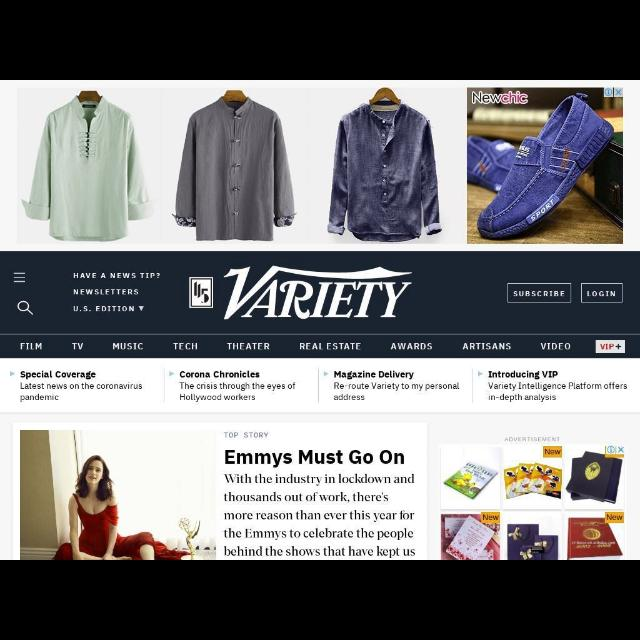button: (607, 445, 617, 455), (604, 89, 612, 98), (615, 89, 623, 97), (618, 446, 626, 454)
icon: (16, 300, 34, 316), (12, 272, 26, 284), (8, 370, 14, 376), (168, 372, 174, 378), (476, 371, 482, 377), (322, 372, 328, 376)
iframe: (2, 80, 640, 250), (438, 413, 634, 559)
image: (20, 429, 216, 555), (184, 262, 410, 331)
text: (225, 449, 417, 556), (179, 368, 299, 406), (489, 370, 629, 402), (20, 368, 144, 404), (332, 369, 461, 403), (68, 271, 160, 317), (299, 342, 359, 352), (513, 288, 565, 298), (110, 339, 146, 353), (464, 342, 512, 352), (222, 428, 270, 438), (390, 342, 434, 352), (227, 343, 269, 352), (539, 342, 573, 351), (19, 340, 43, 352), (172, 341, 196, 352), (586, 290, 618, 298), (600, 342, 620, 352), (73, 340, 85, 350)
textbutton: (506, 284, 570, 302), (582, 284, 620, 302), (596, 340, 624, 352)
toolbar: (1, 254, 637, 358)
